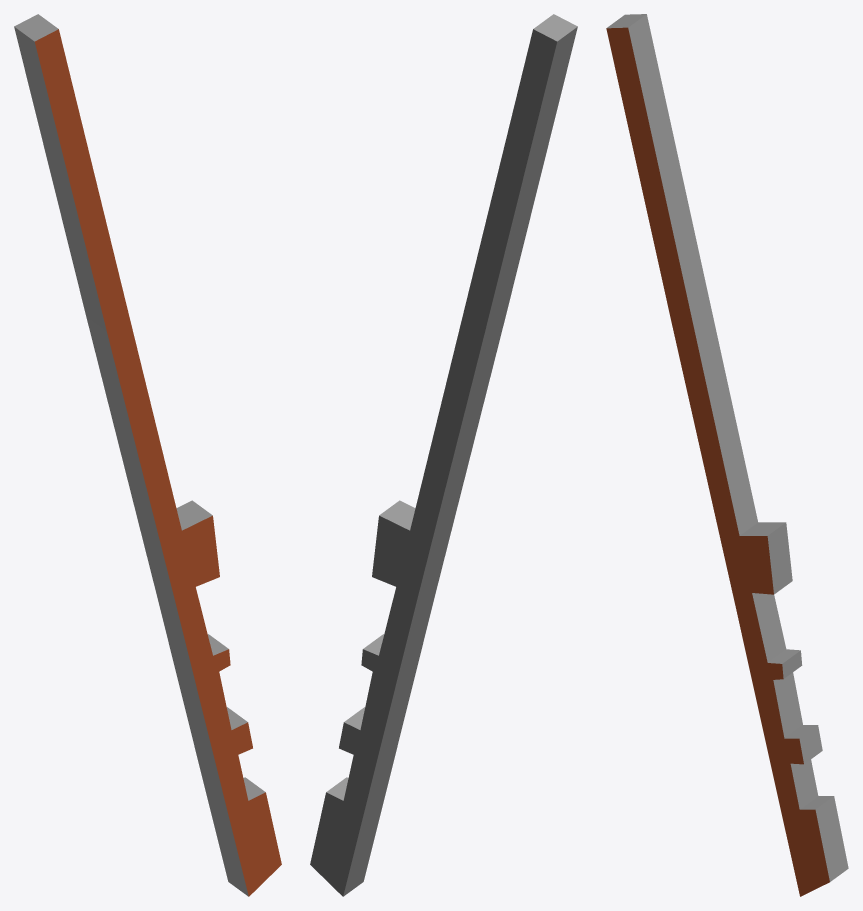
Rendered from construction_6695_assumed_A_Casa_h6m.obj.
The picture shows the model from 3 angles, left to right: view 1: azimuth 30°, elevation 25°; view 2: azimuth 150°, elevation 25°; view 3: azimuth 330°, elevation 25°; orthographic projection. The views are drawn at different scales.
Visible parts, largest first — view 1: construction_6695_assumed_A_Casa; view 2: construction_6695_assumed_A_Casa; view 3: construction_6695_assumed_A_Casa.
Boxes of the visible parts, <box> form: construction_6695_assumed_A_Casa: <box>14,14,281,896</box>; construction_6695_assumed_A_Casa: <box>310,14,577,896</box>; construction_6695_assumed_A_Casa: <box>606,14,848,896</box>.
Bounding box in the file's own units: 41.51 × 147 × 6.
